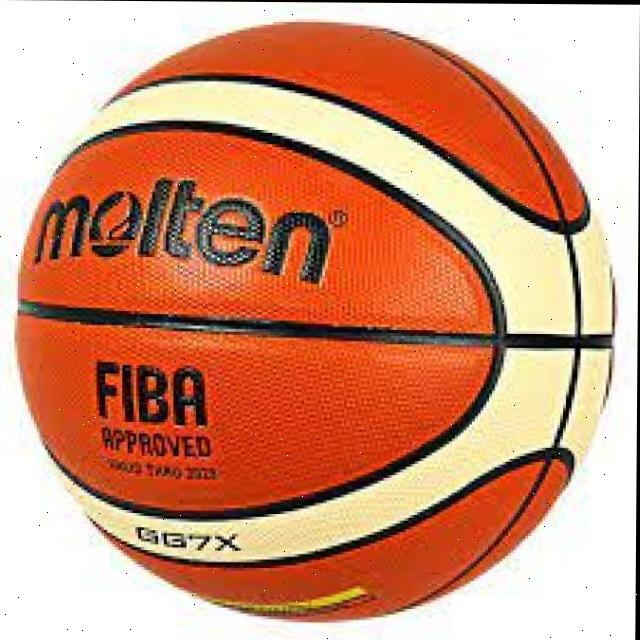Basketball: (15, 21, 615, 623)
